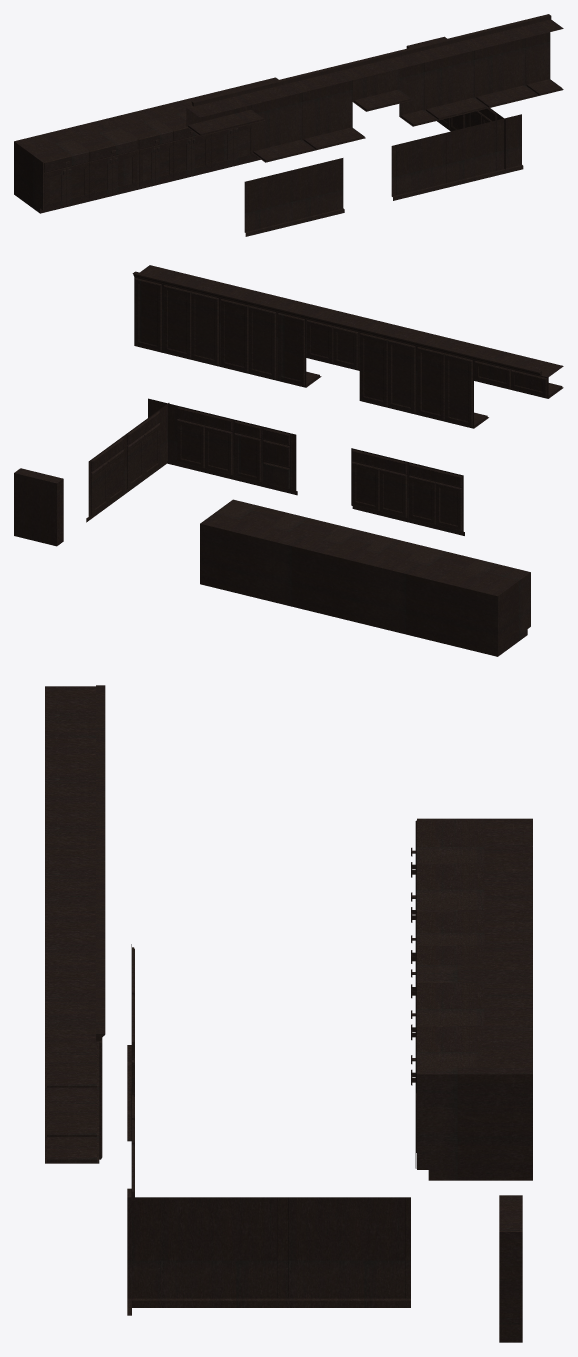
The model's file is cabinets_espresso.glb.
3 renders of one model, top to bottom at view 1: azimuth 30°, elevation 25°; view 2: azimuth 150°, elevation 25°; view 3: azimuth 270°, elevation 25°, orthographic. The views are drawn at different scales.
Visible parts, largest first — view 1: Kitchen Cabinets Epresso; view 2: Kitchen Cabinets Epresso; view 3: Kitchen Cabinets Epresso.
Part boxes in pixels (bbox=[...]): Kitchen Cabinets Epresso: bbox=[14, 14, 563, 236]; Kitchen Cabinets Epresso: bbox=[14, 265, 563, 656]; Kitchen Cabinets Epresso: bbox=[45, 685, 532, 1342].
Size of the model in its own units: 8.5 by 2.93 by 4.2.
1 material, 1 textured.
